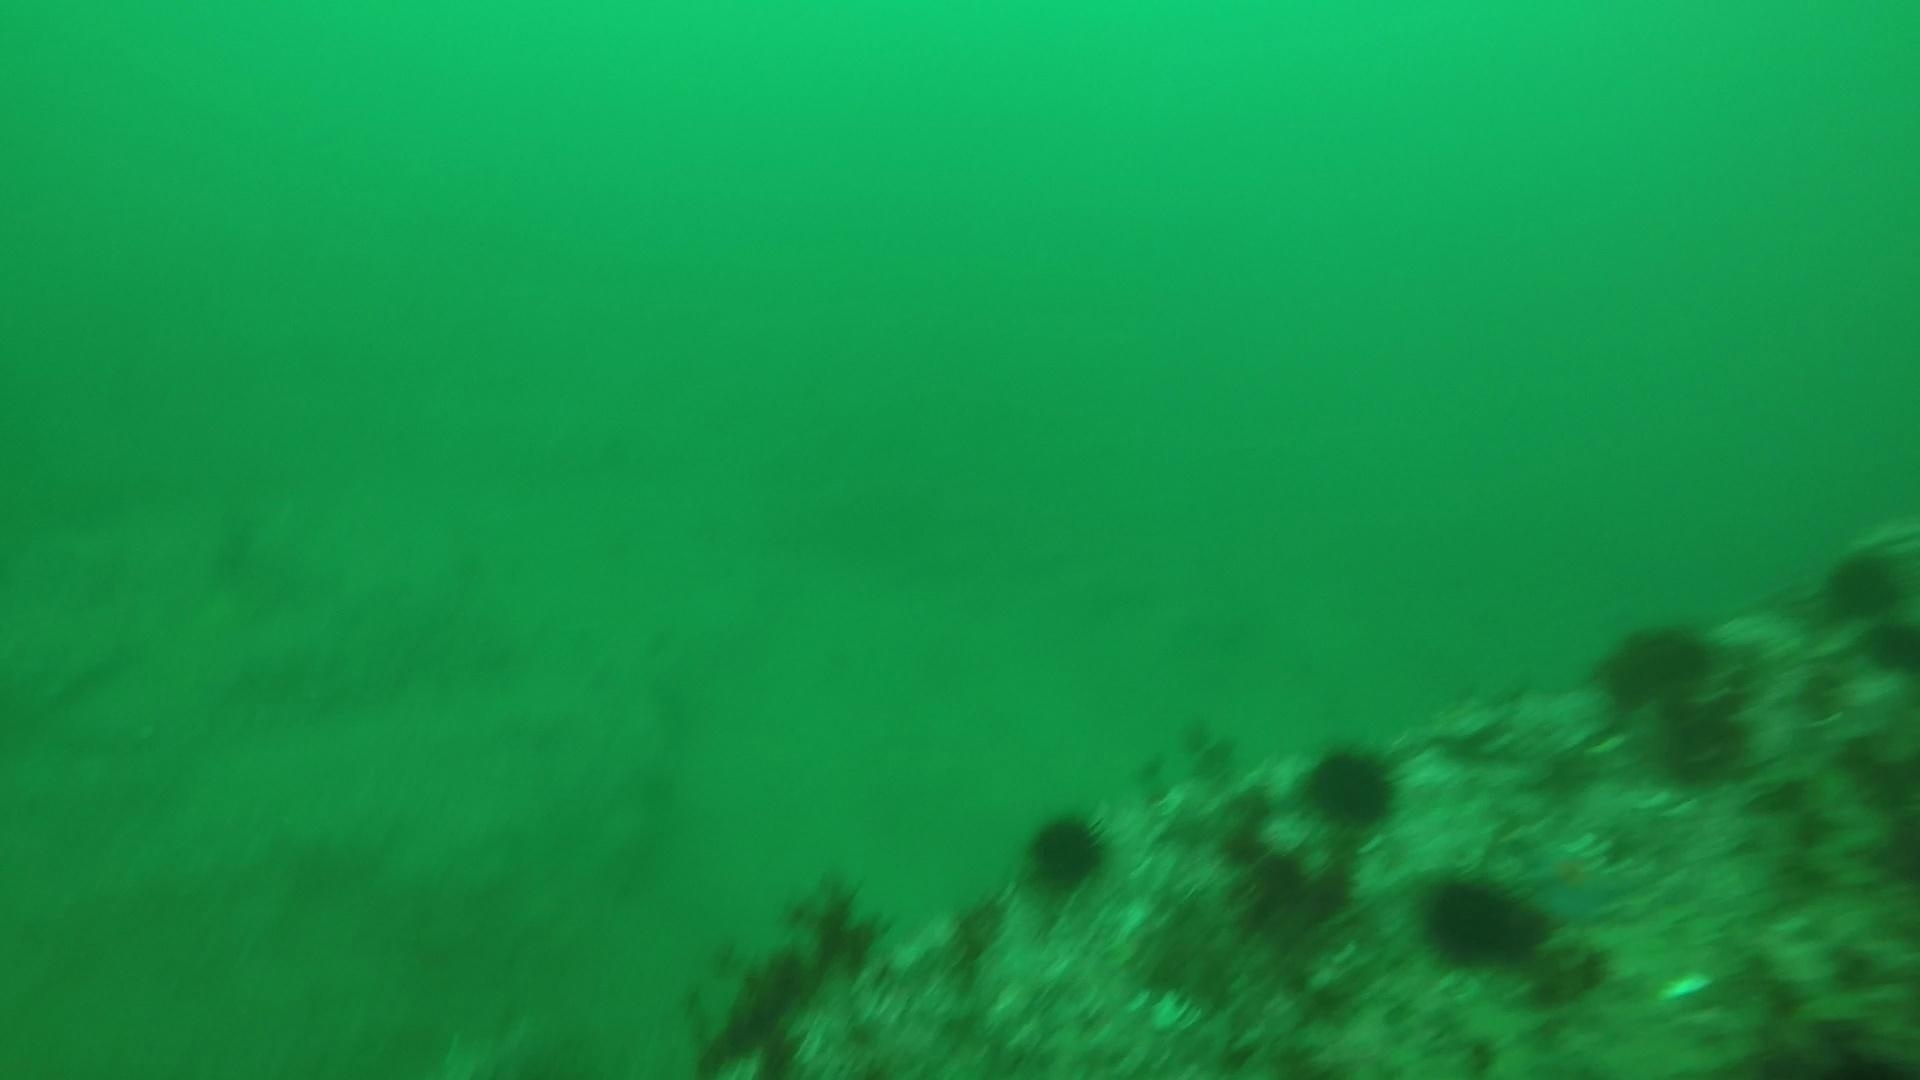echinus: (1414, 866, 1551, 973), (1592, 615, 1717, 709), (1644, 686, 1753, 786), (1295, 737, 1404, 833), (1018, 804, 1114, 895), (1815, 539, 1913, 626), (1859, 611, 1920, 680)
starfish: (1515, 832, 1636, 926)
